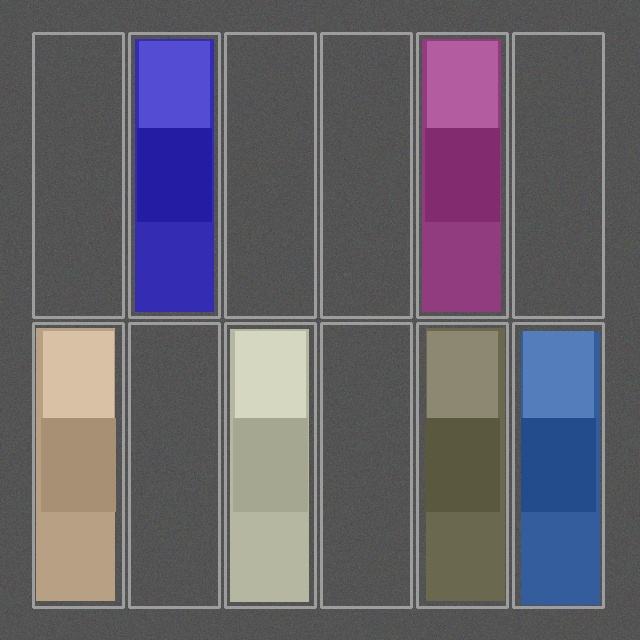space-empty: (35, 35, 121, 315), (227, 35, 313, 315), (323, 35, 409, 315), (515, 35, 601, 315), (131, 325, 217, 605), (323, 325, 409, 605)
space-occupied: (131, 35, 217, 315), (419, 35, 505, 315), (35, 325, 121, 605), (227, 325, 313, 605), (419, 325, 505, 605), (515, 325, 601, 605)
